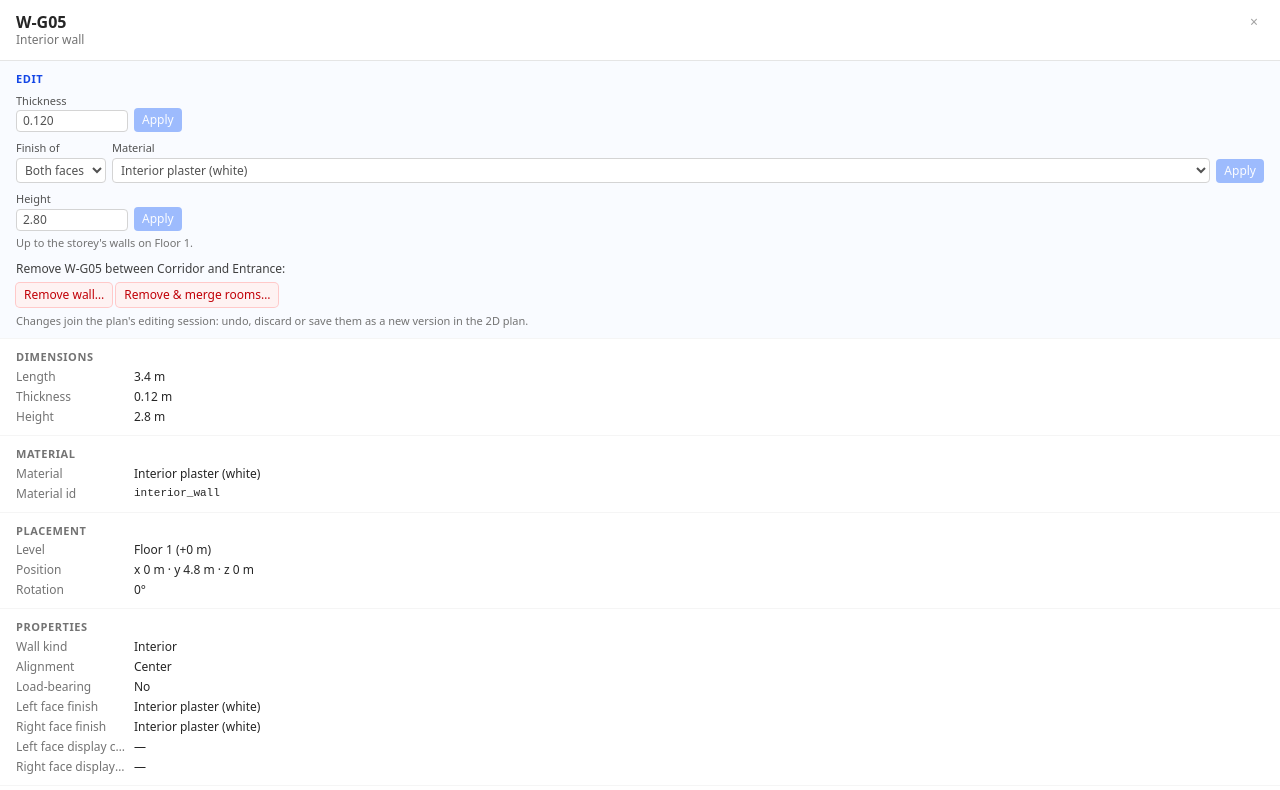
Test: Properties panel: wall thickness, finish and height (D2.5) › explains a refused thickness and keeps Apply disabled
The image size is (1280, 790).
Replace the text in the number field named "Thickness in meters" with "0.5": point(72, 121) [16,110,128,132]
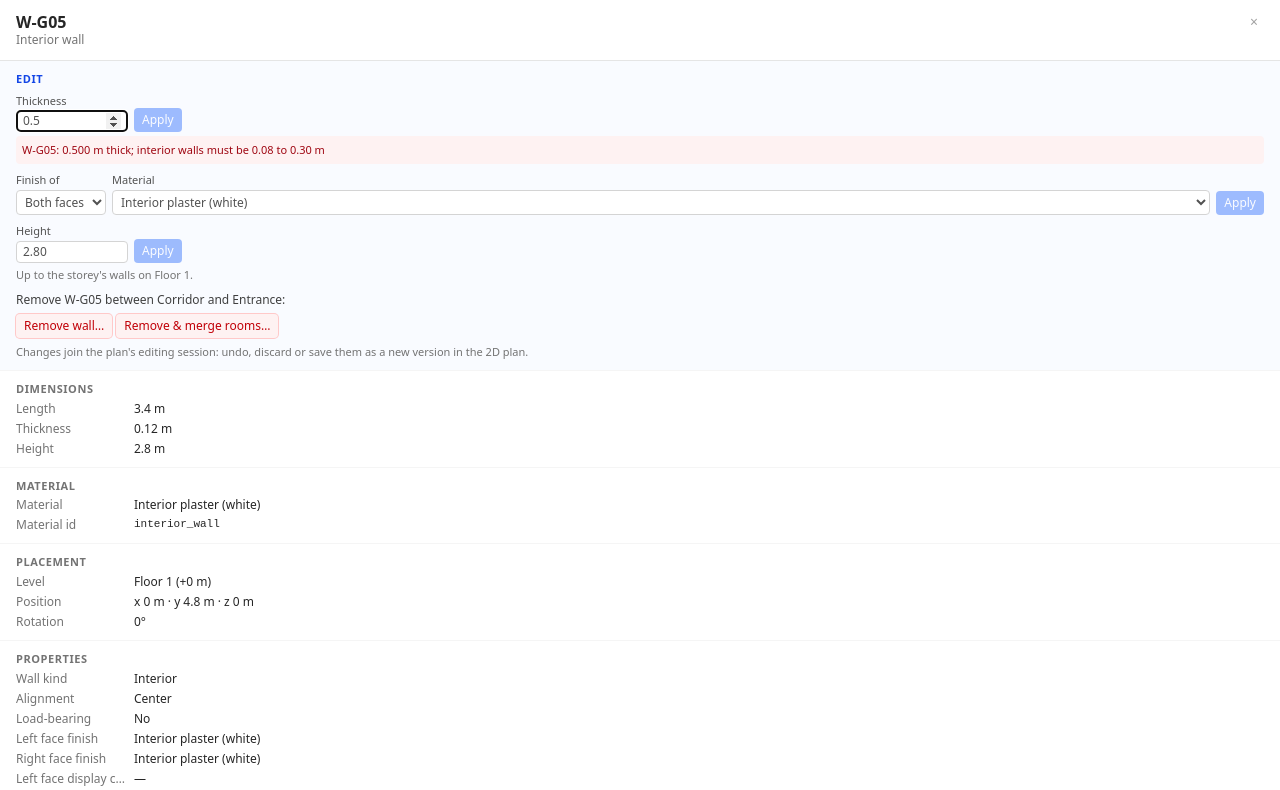
Expected: the 1st button "Apply" is disabled, [134,108,182,132]
Expected: the message shows "interior walls must be", [22,142,325,157]
